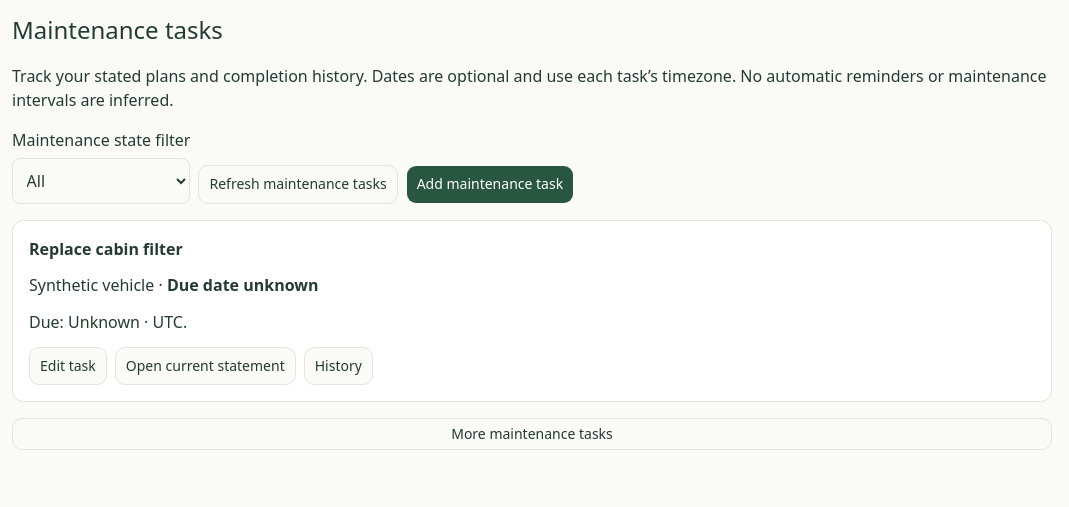
Test case: does not restore a previous filter from delayed pagination
This screenshot has width=1069, height=507.
Click the button "More maintenance tasks" at (532, 434), box [12, 418, 1052, 450]
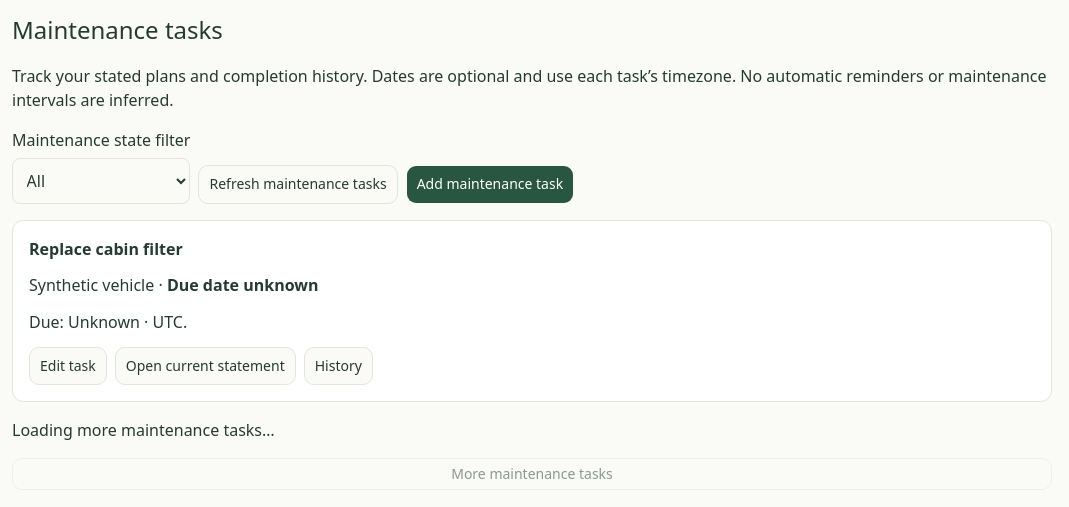
Select "Completed" in the dropdown labelled "Maintenance state filter" at (101, 181), box [12, 158, 190, 204]
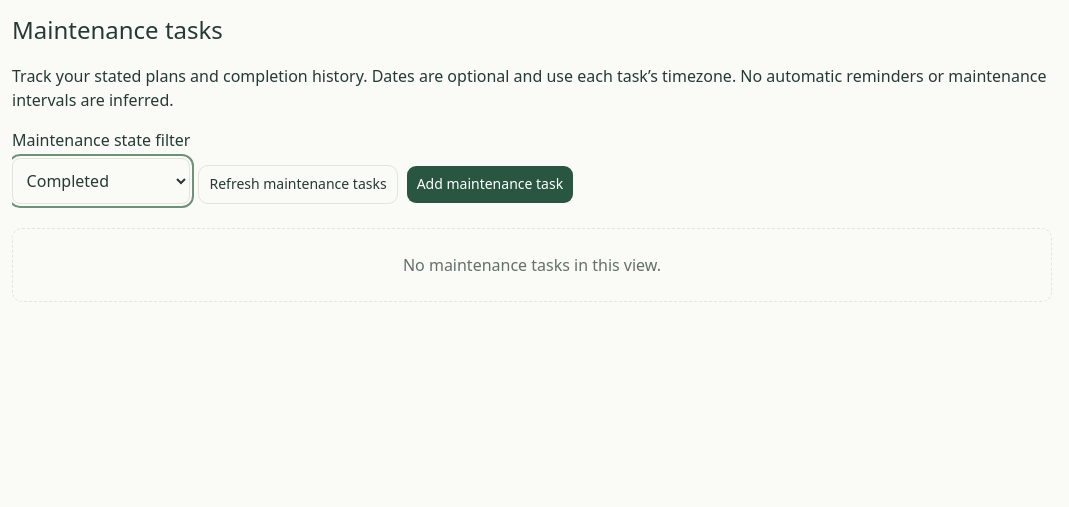
Result: the text "No maintenance tasks in this view." is shown at [12, 228, 1052, 302]
Result: the heading "Replace cabin filter" is gone
